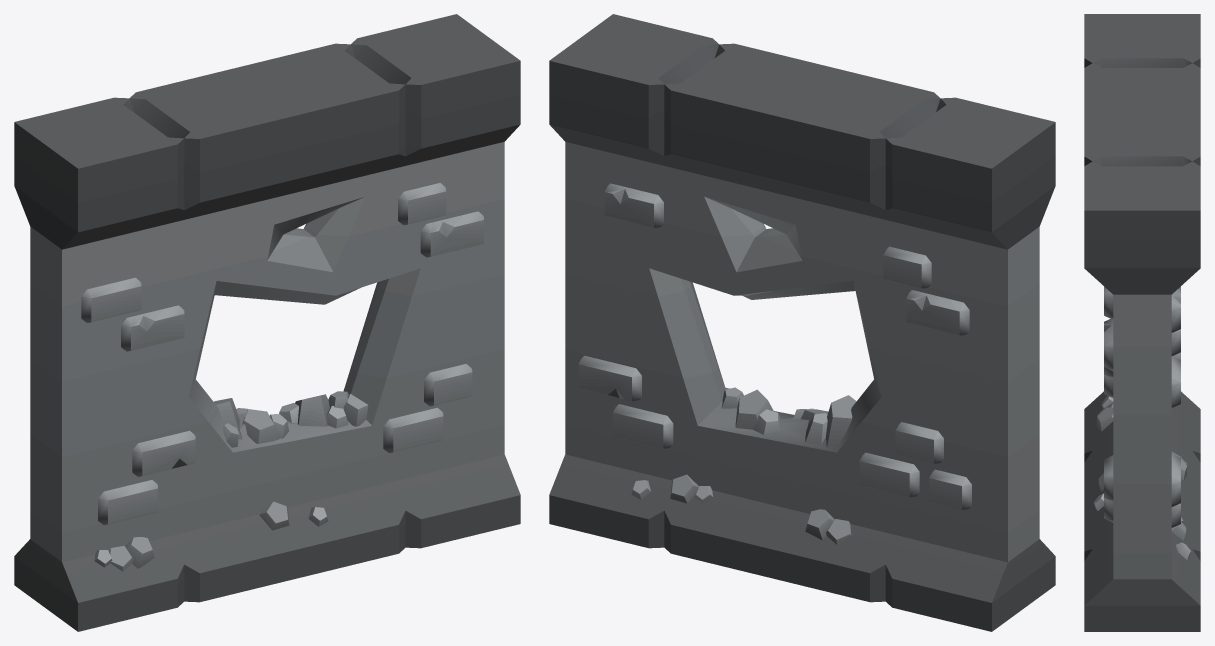
The model's file is decor-broken-wall.glb.
3 renders of one model, left to right at view 1: azimuth 30°, elevation 25°; view 2: azimuth 150°, elevation 25°; view 3: azimuth 270°, elevation 25°, orthographic. The views are drawn at different scales.
Visible parts, largest first — view 1: wall_broken; view 2: wall_broken; view 3: wall_broken.
Boxes of the visible parts, bbox=[...] form: wall_broken: bbox=[14, 14, 520, 631]; wall_broken: bbox=[549, 14, 1055, 631]; wall_broken: bbox=[1084, 14, 1200, 631].
Bounding box in the file's own units: 4 × 4 × 1.
1 material, 1 textured.
